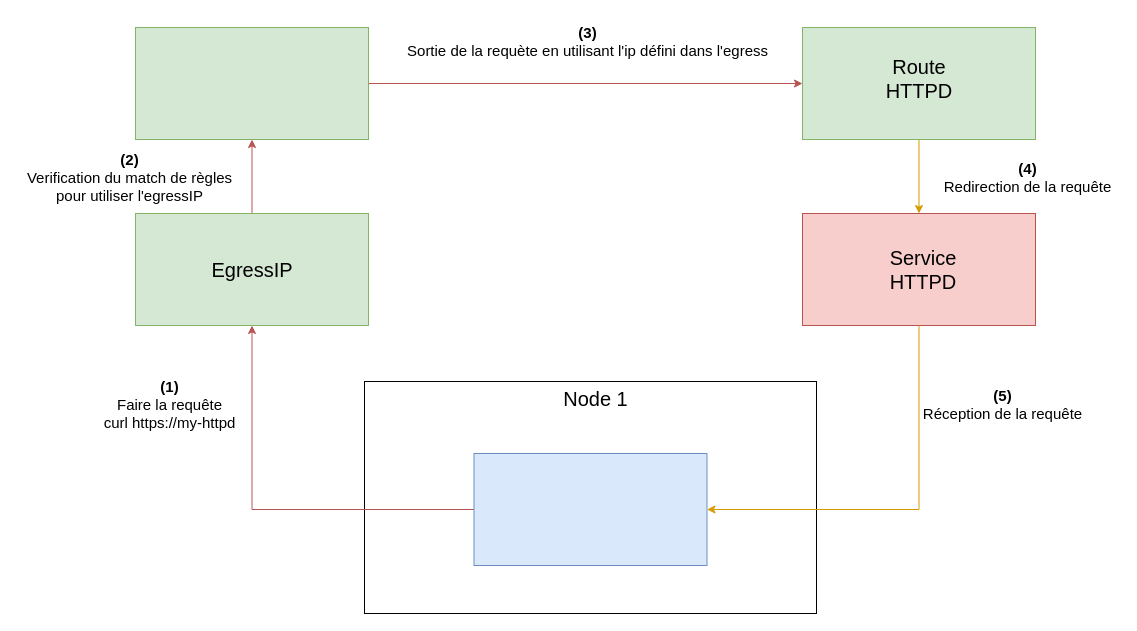
The diagram is 1137 pixels wide and 631 high, and some of its shapes have lost their labels. The box of each missing label's shape, as (x1, y1, x2, y2) in pixels:
EgressFirewall: (134, 26, 368, 140)
Pod HTTPD: (473, 452, 707, 566)
